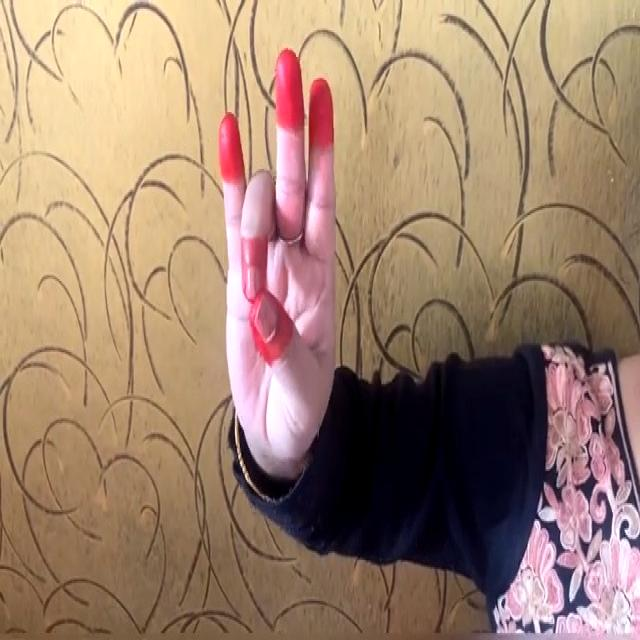Mayura: (207, 15, 361, 482)
